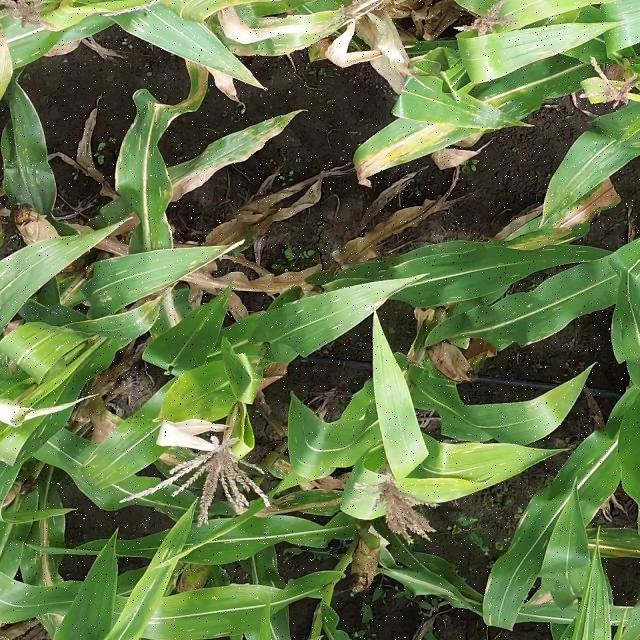gray-leaf-spot: (0, 306, 151, 476), (418, 237, 586, 345), (16, 236, 217, 316), (475, 519, 630, 619), (148, 484, 325, 570), (106, 70, 189, 214), (260, 267, 398, 351), (1, 510, 63, 639)
northern-leaf-blight: (149, 107, 288, 213)
southern-leaf-blight: (329, 58, 585, 169), (0, 86, 63, 218)
